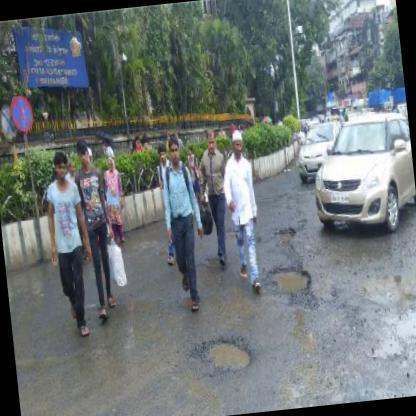pothole: (203, 336, 254, 374), (266, 264, 313, 298), (358, 276, 404, 308)
